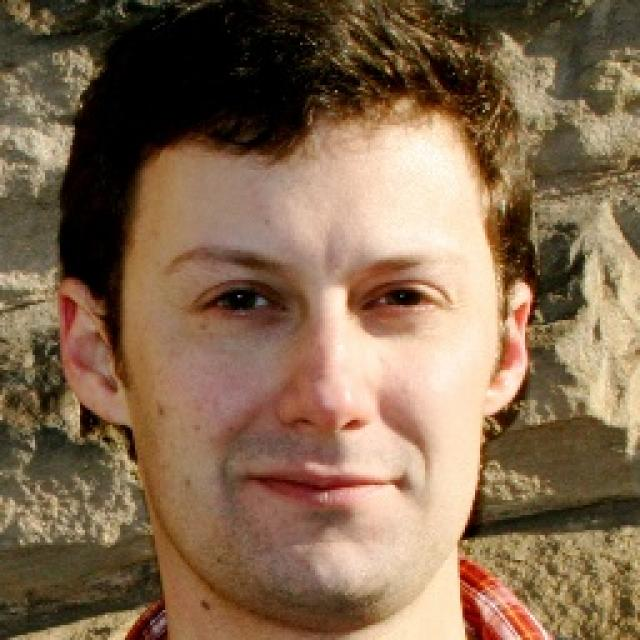earlobe: (95, 383, 134, 426), (481, 378, 511, 418)
eye: (200, 286, 284, 314), (364, 287, 444, 314)
nose: (274, 407, 387, 469)
wholeear: (56, 277, 134, 426), (480, 278, 532, 417)
